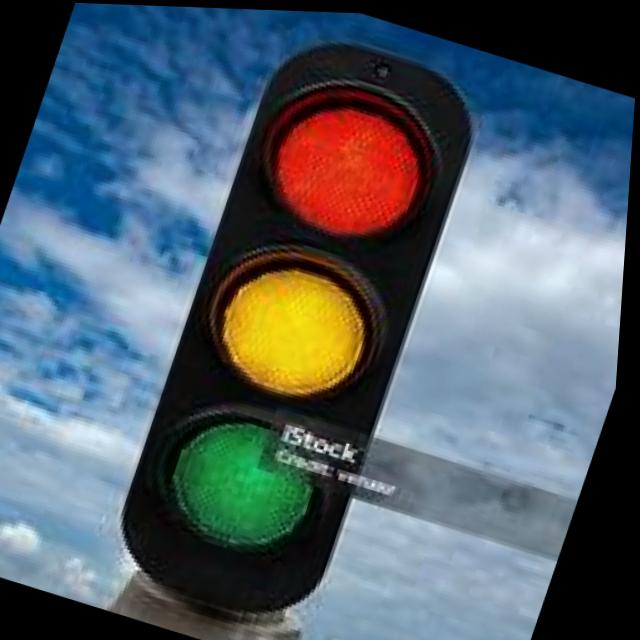green_light: (126, 378, 438, 624)
red_light: (202, 38, 571, 297)
yellow_light: (135, 181, 450, 451)
